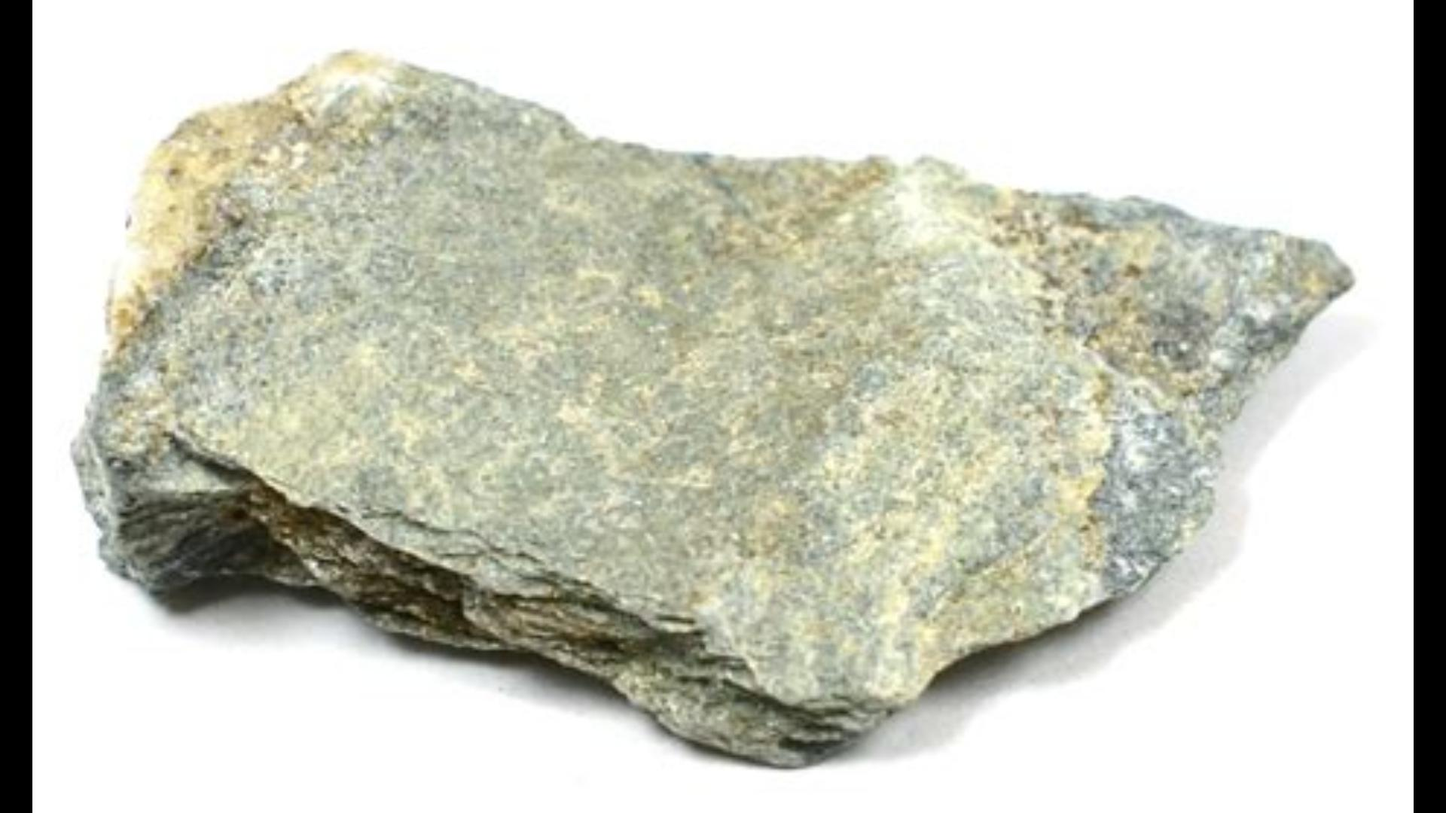rock: (76, 55, 1347, 761)
